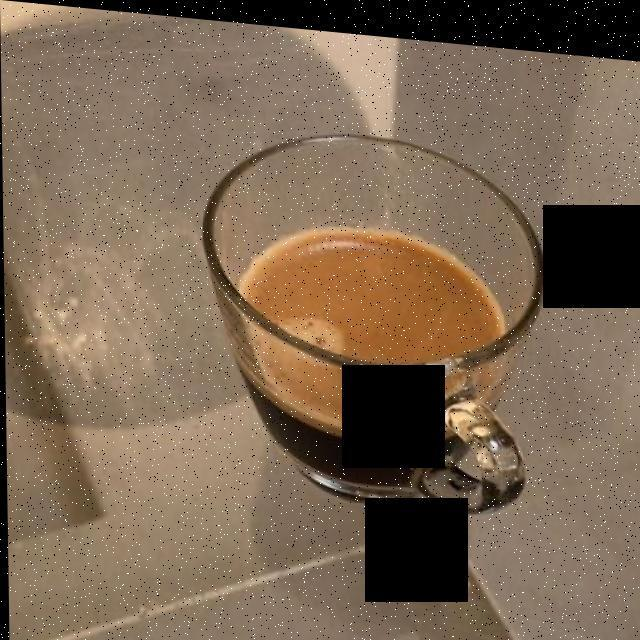coffee: (253, 226, 499, 358)
